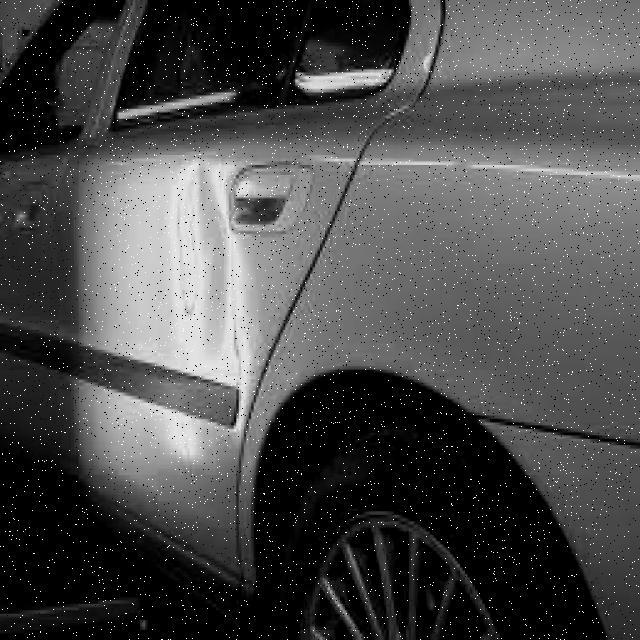car damage: (168, 158, 252, 464)
